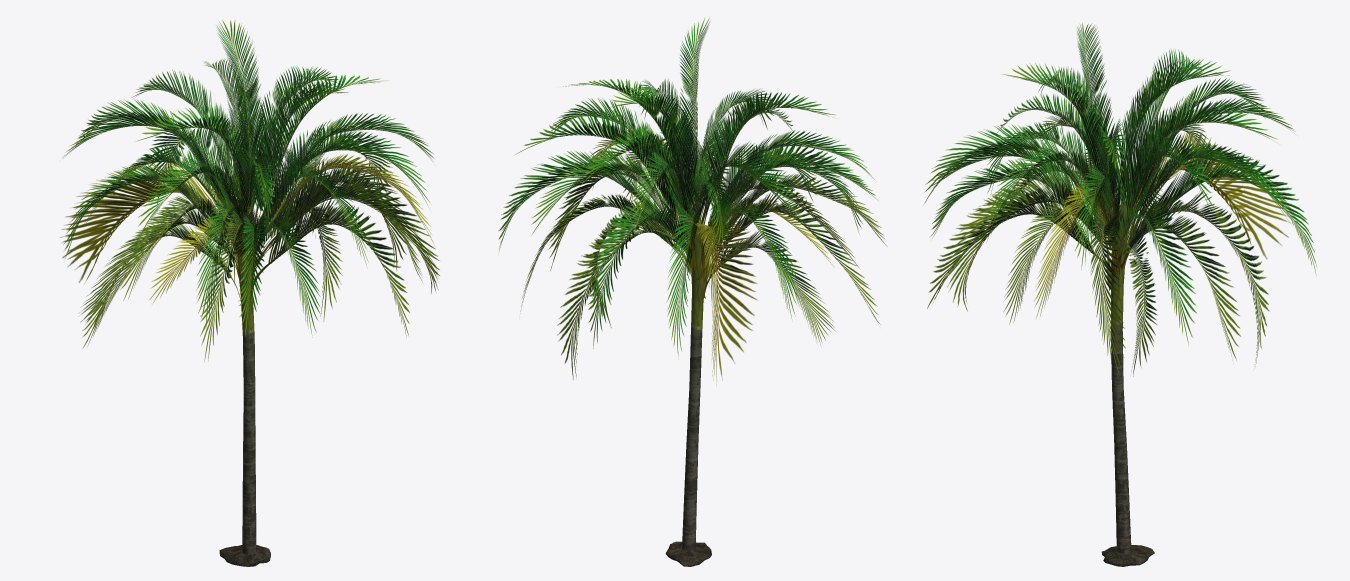
Rendered from coconut_tree.optimized.glb.
3 views of the same model, side by side, from view 1: azimuth 30°, elevation 25°; view 2: azimuth 150°, elevation 25°; view 3: azimuth 270°, elevation 25° (orthographic). The views are drawn at different scales.
Visible parts, largest first — view 1: XI_SP_Tree.Shape_XI_SP_Leaves_0, XI_SP_Tree.Shape_XI_SP_Tree_Stem_0; view 2: XI_SP_Tree.Shape_XI_SP_Leaves_0, XI_SP_Tree.Shape_XI_SP_Tree_Stem_0; view 3: XI_SP_Tree.Shape_XI_SP_Leaves_0, XI_SP_Tree.Shape_XI_SP_Tree_Stem_0.
Boxes of the visible parts, box(x1,y1,x2,y2) form: XI_SP_Tree.Shape_XI_SP_Leaves_0: box(60, 20, 439, 361); XI_SP_Tree.Shape_XI_SP_Tree_Stem_0: box(219, 208, 270, 566); XI_SP_Tree.Shape_XI_SP_Leaves_0: box(498, 17, 886, 385); XI_SP_Tree.Shape_XI_SP_Tree_Stem_0: box(665, 214, 711, 566); XI_SP_Tree.Shape_XI_SP_Leaves_0: box(924, 23, 1316, 376); XI_SP_Tree.Shape_XI_SP_Tree_Stem_0: box(1101, 204, 1154, 566).
Bounding box in the file's own units: 6.35 × 8.55 × 6.23.
2 materials, 2 textured.
